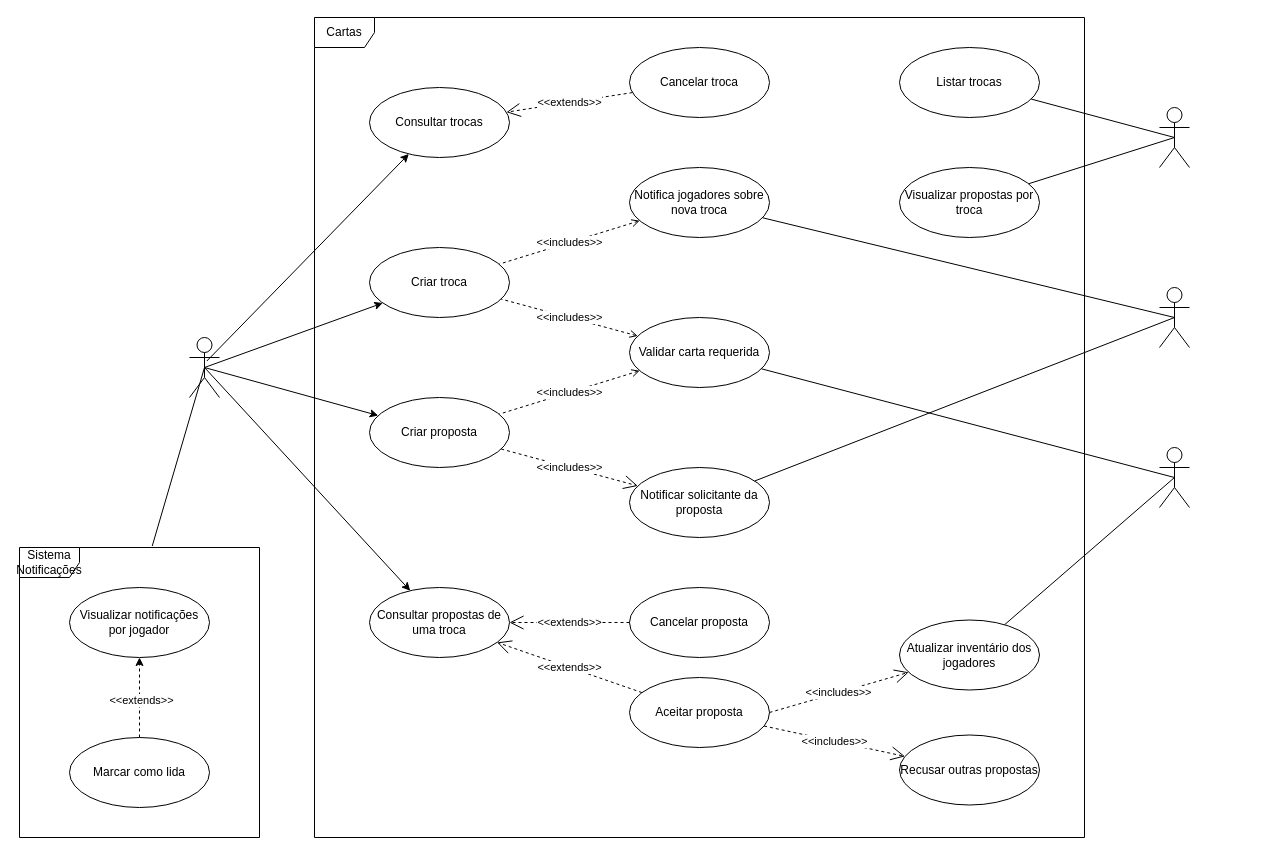
Some shapes in this 1277 by 855 pixel diagram are drawn without their labels. Here are the shapes that lost their labels. From the top down, the centre of each, then its label:
(1174,137): Sistema (Painel ADM)
(1174,317): Sistema (Broker)
(204,367): Sistema (Visualização de trocas)
(1174,477): Sistema (Distribuição de cartas)
